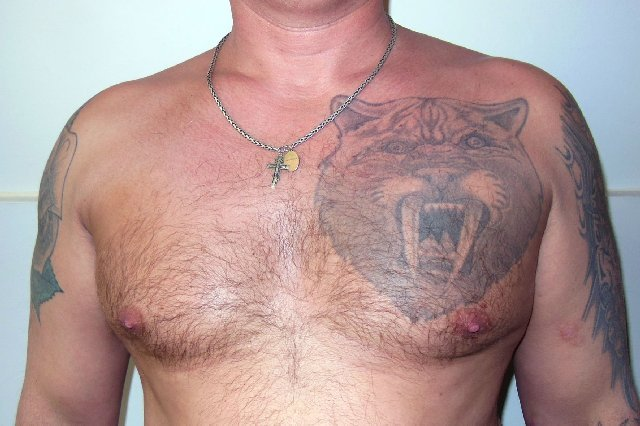tatu5_tigr: (318, 89, 547, 318)
